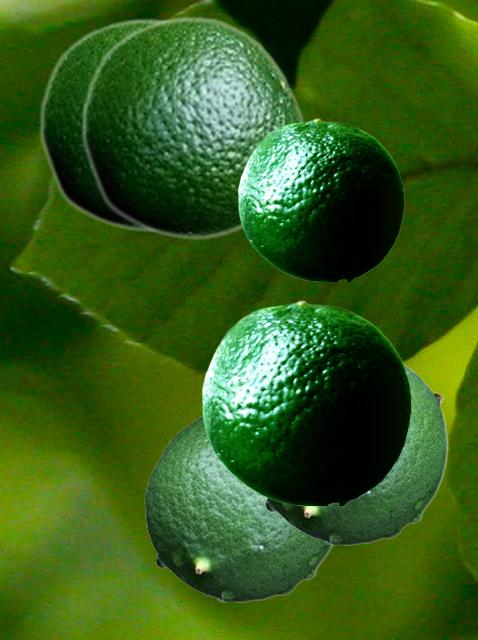calamansi: (80, 15, 307, 240), (202, 300, 410, 504), (144, 414, 335, 601), (262, 361, 447, 544), (38, 17, 167, 232), (238, 118, 403, 280)
